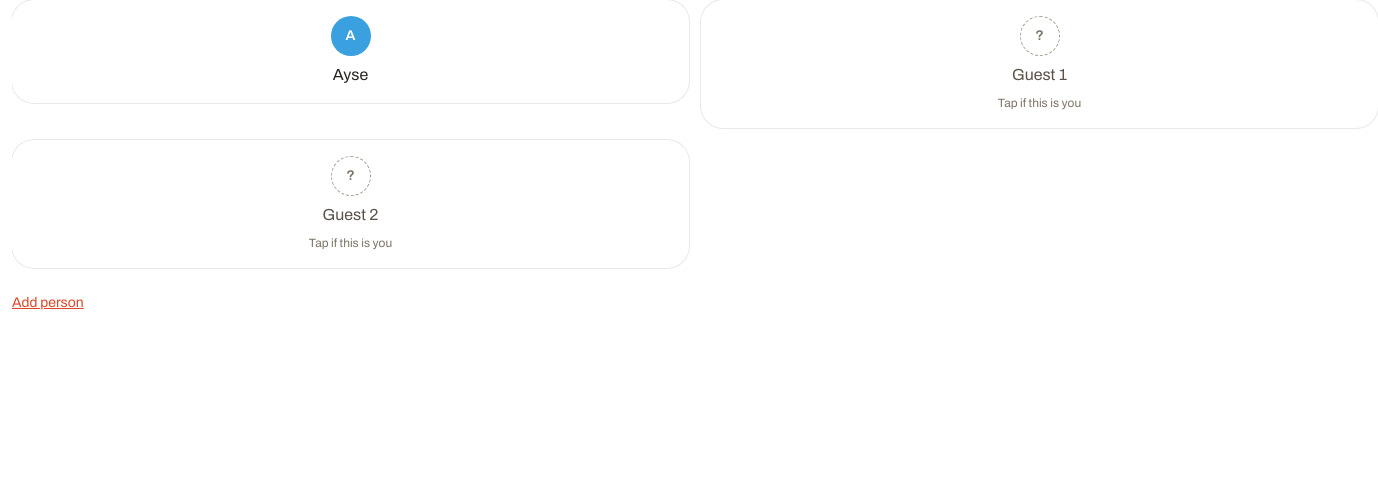
Test case: PersonSlotPicker — v2.1 empty "Guest N" seats › requires a name before claiming
Click the button with aria-label "Take seat Guest 1" at (1040, 64), box [701,0,1377,128]
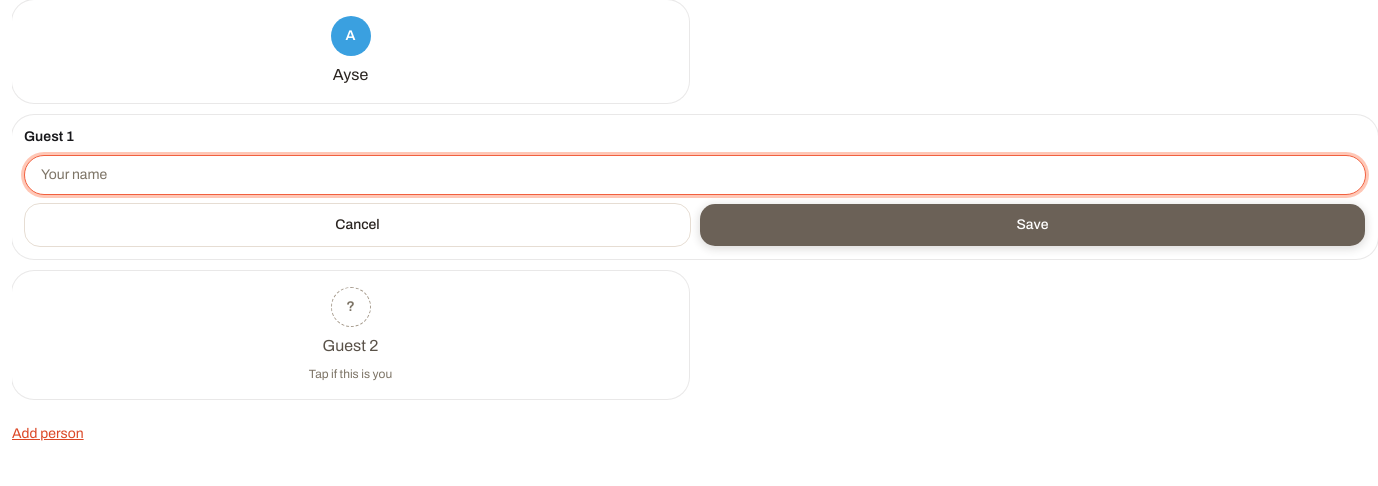
Click the button "Save" at (1032, 225), box [699,203,1366,247]
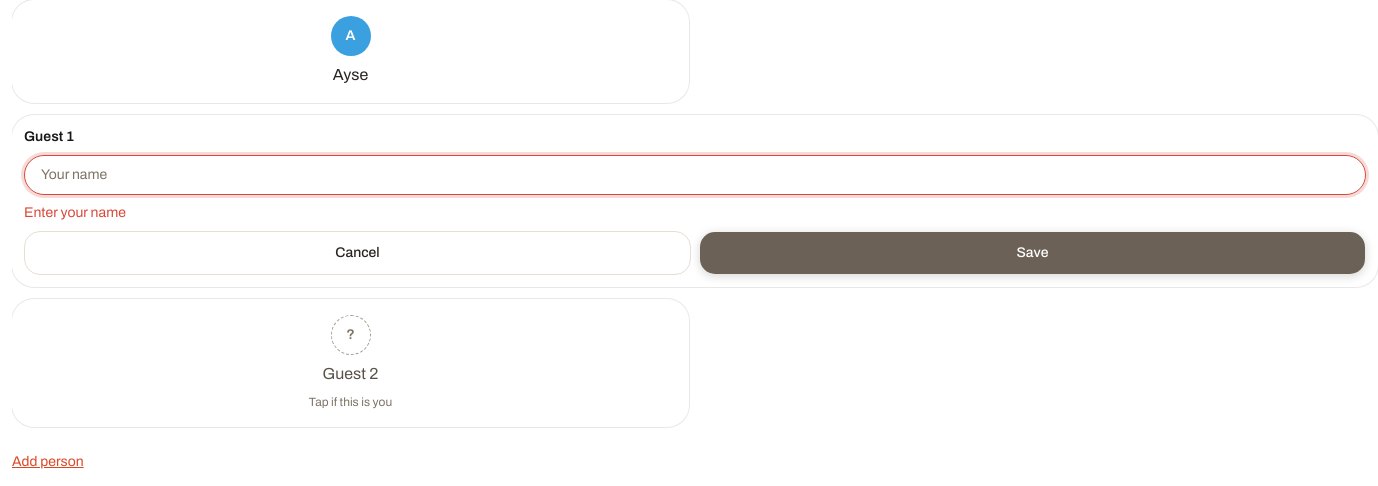
Check: the message reads "Enter your name", box [24,205,126,220]
